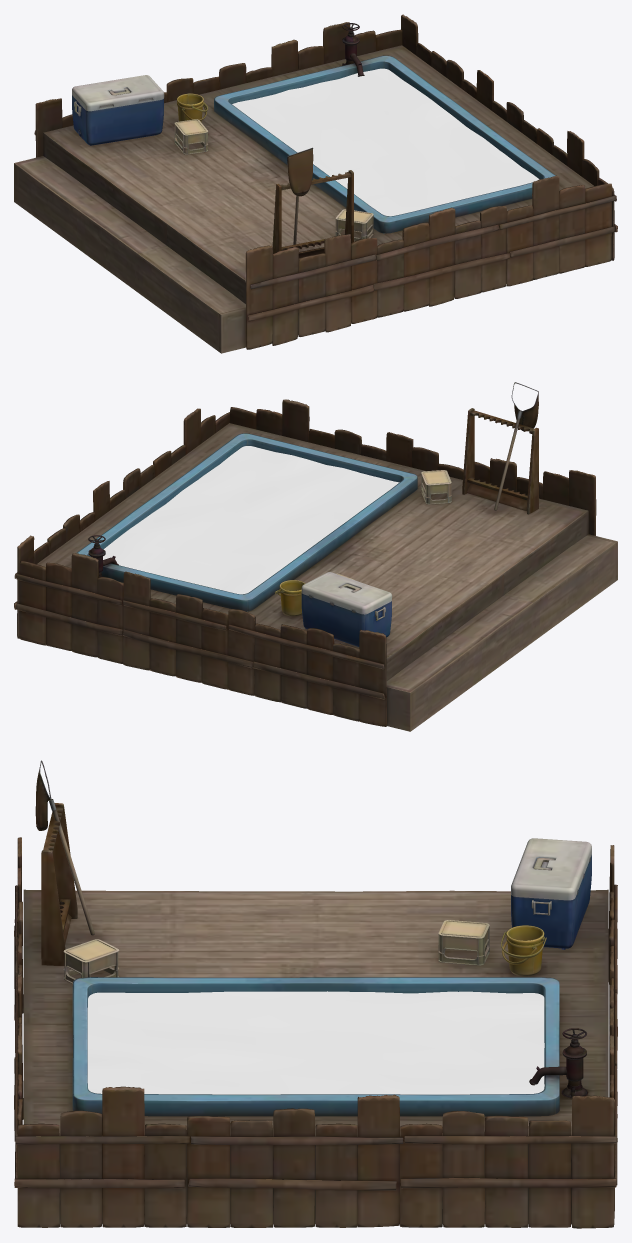
File: SM_FishingPond_24a477.glb
3 views of the same model, one above another, from view 1: azimuth 30°, elevation 25°; view 2: azimuth 150°, elevation 25°; view 3: azimuth 270°, elevation 25° (orthographic). The views are drawn at different scales.
Size of the model in its own units: 6.58 by 2.9 by 6.2.
4 materials, 3 textured.
